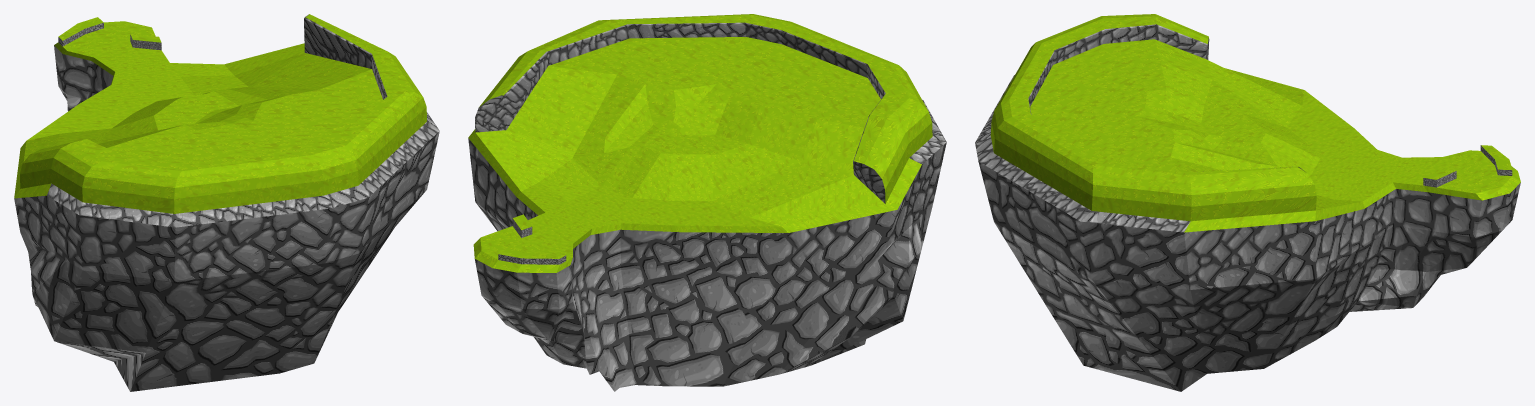
Rendered from IslaInicial.glb.
The picture shows the model from 3 angles, left to right: view 1: azimuth 30°, elevation 25°; view 2: azimuth 150°, elevation 25°; view 3: azimuth 270°, elevation 25°; orthographic projection. The views are drawn at different scales.
Parts seen in each view (by area): view 1: Plane; view 2: Plane; view 3: Plane.
Part boxes in pixels (bbox=[...]): Plane: bbox=[14, 14, 439, 391]; Plane: bbox=[468, 14, 946, 391]; Plane: bbox=[975, 14, 1520, 391].
Size of the model in its own units: 53.58 by 33.63 by 64.76.
2 materials, 2 textured.
